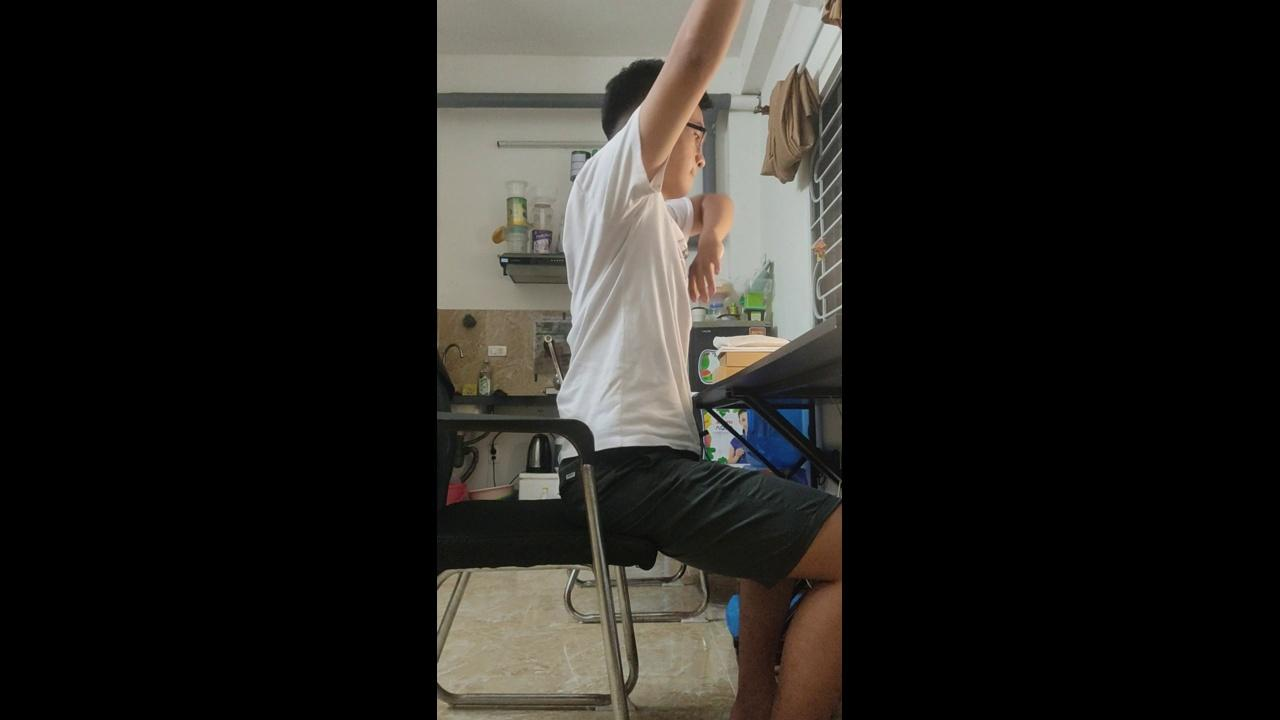GoodPosture: (557, 0, 843, 719)
